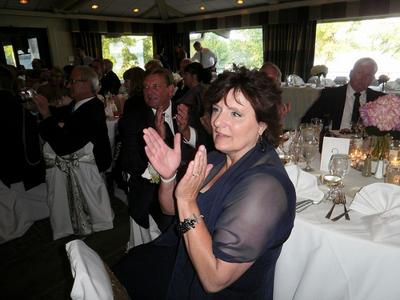person: (141, 64, 299, 298)
